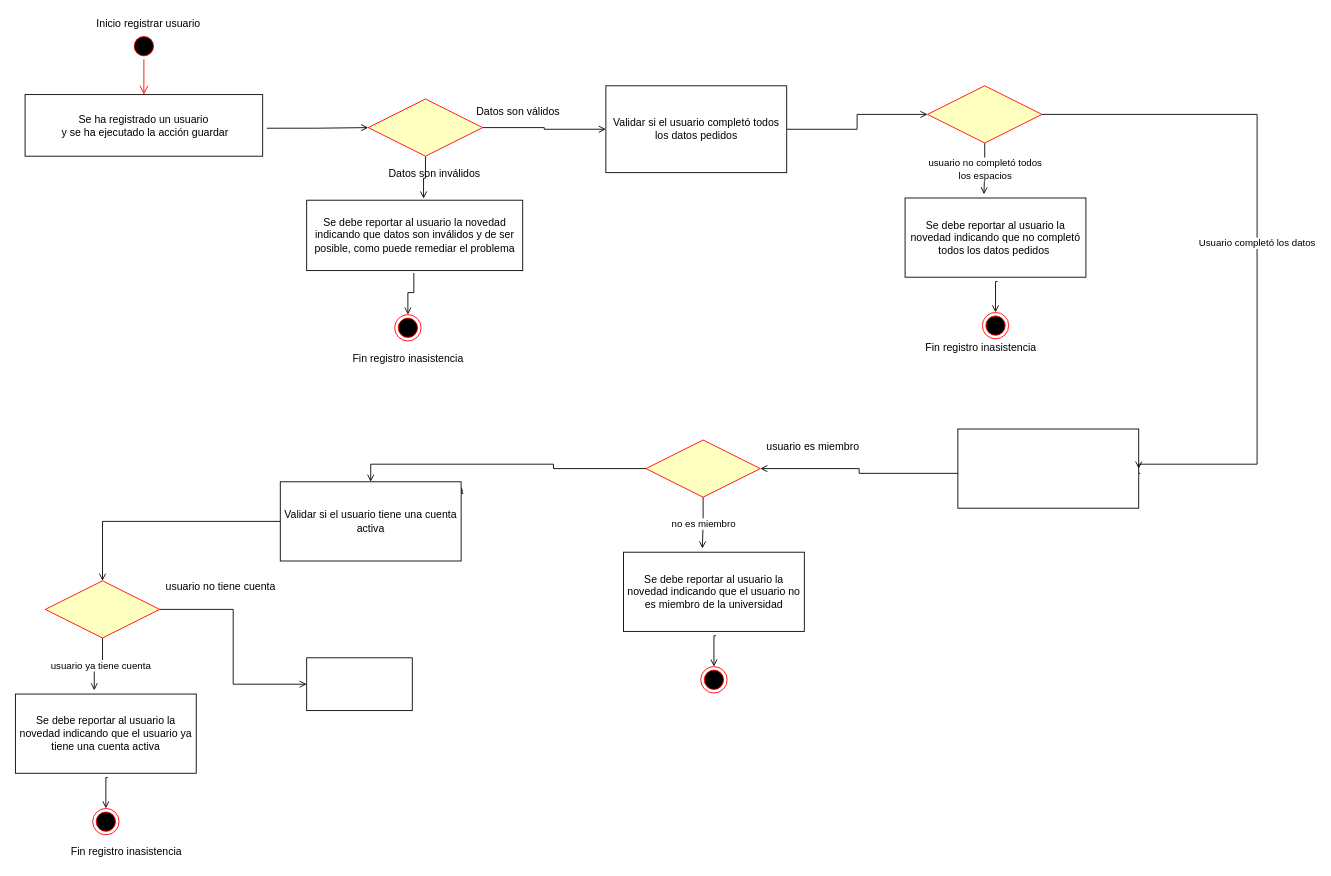
Some shapes in this 1331 by 876 pixel diagram are drawn without their labels. The shapes that lost their labels are listed below. From the top down, each one's centre as x and y in pixels, then its label:
(x=1048, y=468): Validar si el usuario es miembro de la universidad
(x=359, y=684): Se registra el usuario
